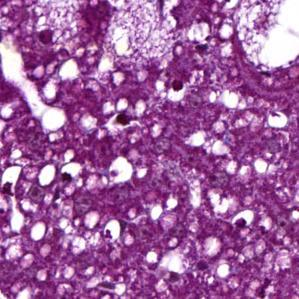ballooning: (104, 6, 181, 65), (233, 7, 297, 76), (29, 6, 92, 60)
